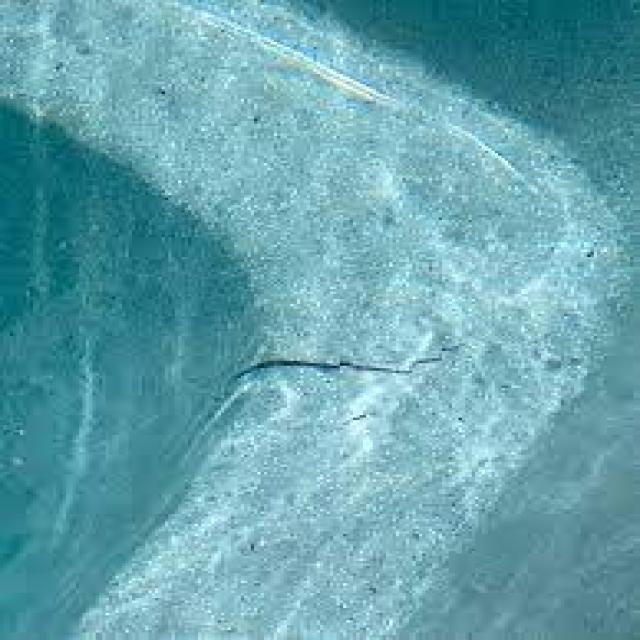crack: (211, 328, 475, 393)
